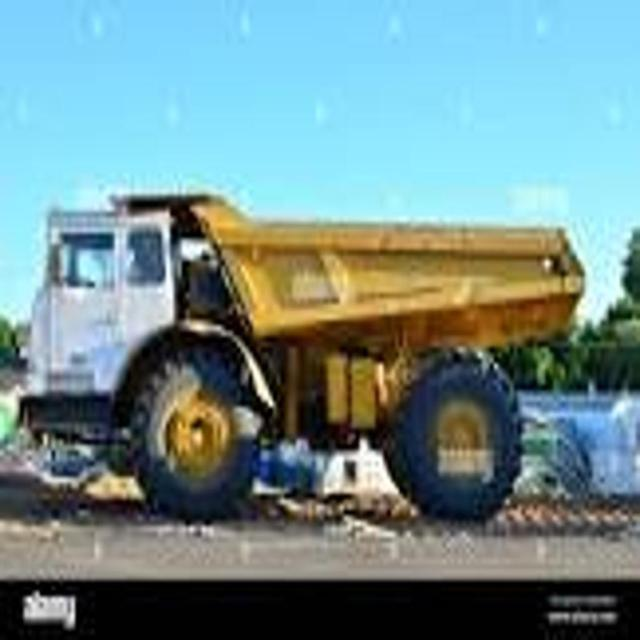dump_truck: (19, 175, 586, 536)
